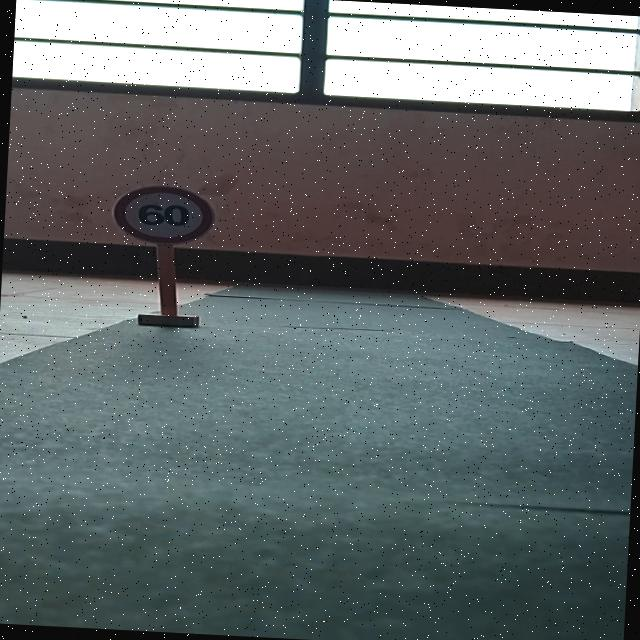Speed60: (107, 184, 220, 247)
